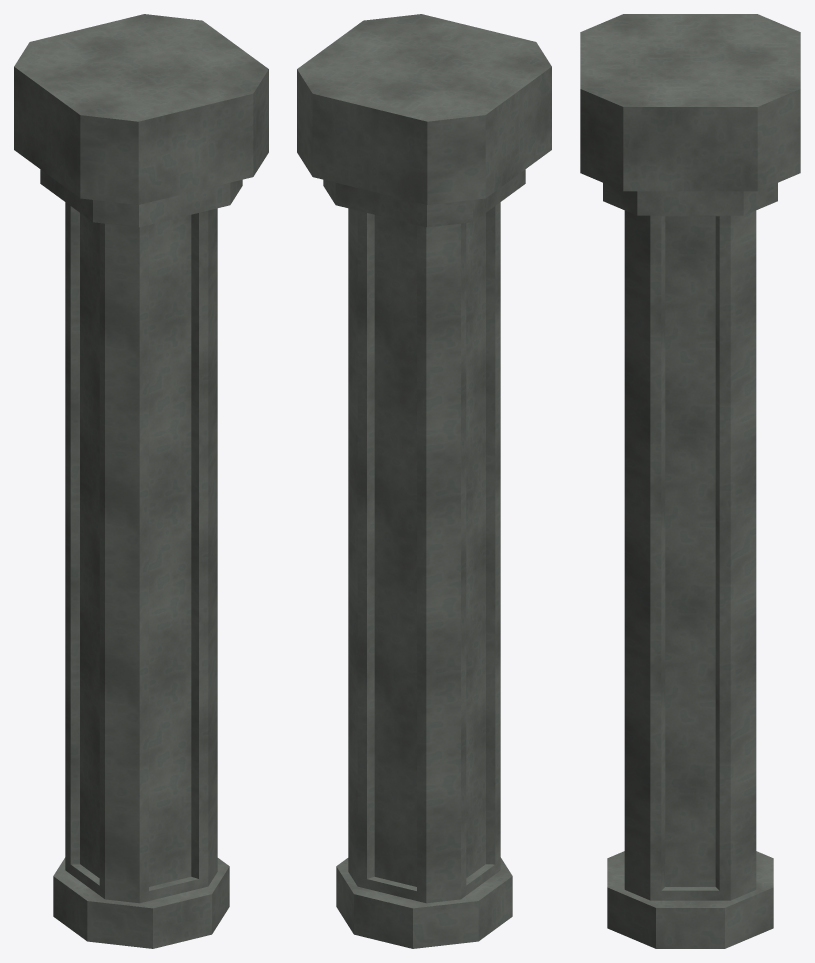
Rendered from Pillar.fbx.
3 renders of one model, left to right at view 1: azimuth 30°, elevation 25°; view 2: azimuth 150°, elevation 25°; view 3: azimuth 270°, elevation 25°, orthographic.
Parts seen in each view (by area): view 1: Pillar.001; view 2: Pillar.001; view 3: Pillar.001.
Part boxes in pixels (bbox=[...]): Pillar.001: bbox=[14, 14, 268, 948]; Pillar.001: bbox=[297, 14, 551, 948]; Pillar.001: bbox=[580, 14, 800, 948].
Bounding box in the file's own units: 7.09 × 30.34 × 7.09.
1 material, 1 textured.
